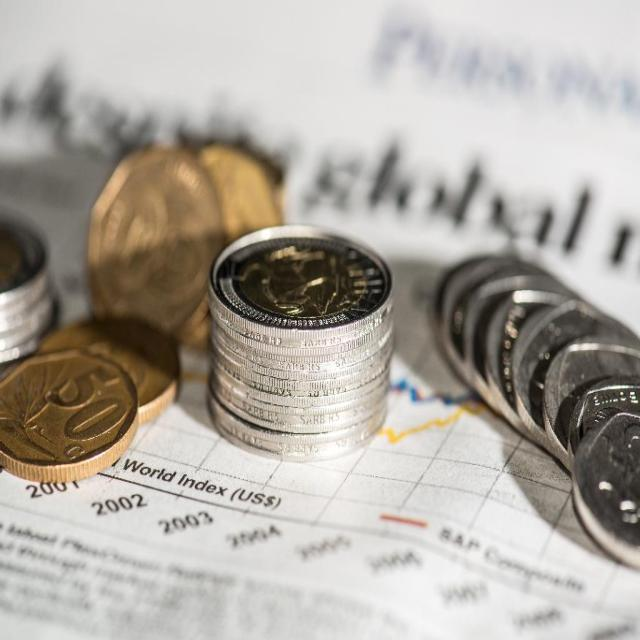Coin: (0, 138, 398, 483), (432, 249, 640, 568)
